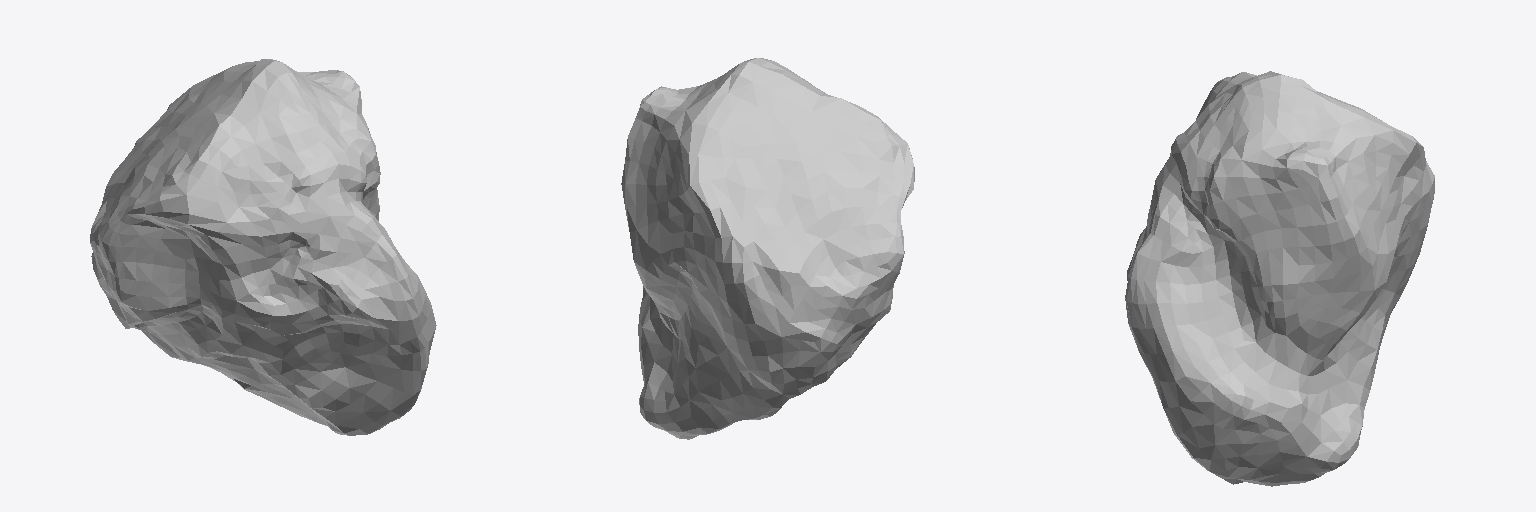
Rendered from obstacle.obj.
The picture shows the model from 3 angles: view 1: azimuth 30°, elevation 25°; view 2: azimuth 150°, elevation 25°; view 3: azimuth 270°, elevation 25°; orthographic projection.
Parts seen in each view (by area): view 1: SM_Rock_MediumSize; view 2: SM_Rock_MediumSize; view 3: SM_Rock_MediumSize.
Boxes of the visible parts, x1=… form: SM_Rock_MediumSize: x1=90, y1=59, x2=436, y2=435; SM_Rock_MediumSize: x1=621, y1=58, x2=914, y2=439; SM_Rock_MediumSize: x1=1125, y1=71, x2=1434, y2=486.
Size of the model in its own units: 15.78 by 19.73 by 14.56.